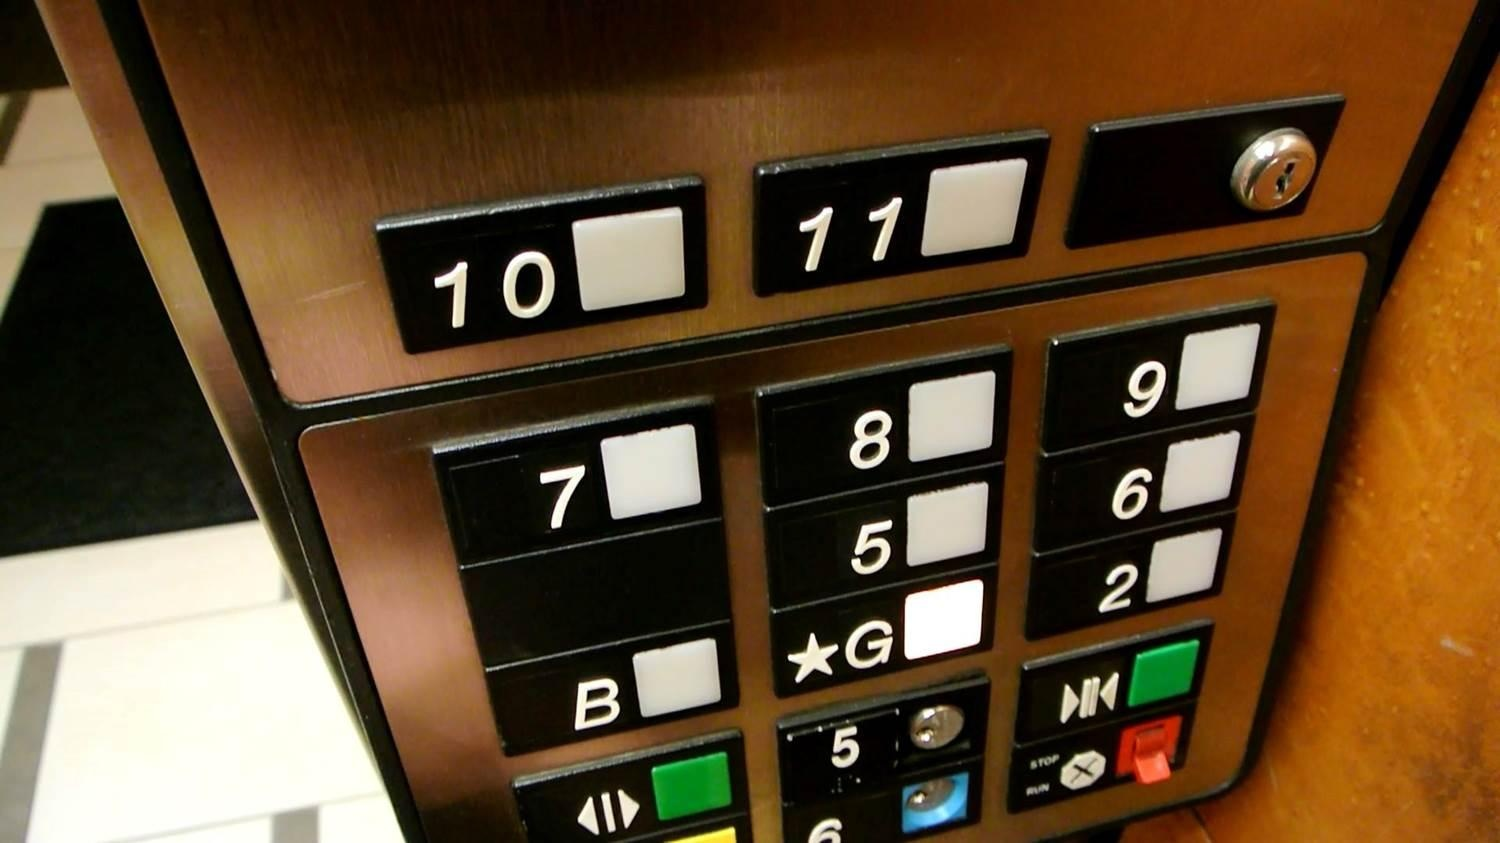10: (372, 173, 711, 367)
11: (745, 123, 1057, 300)
2: (1019, 503, 1242, 640)
5: (759, 453, 1010, 612), (772, 673, 995, 808)
6: (1030, 403, 1259, 554)
7: (428, 392, 728, 568)
8: (752, 341, 1016, 508)
9: (1038, 296, 1279, 454)
B: (483, 615, 741, 758)
bt_keyhole: (1062, 89, 1344, 251)
close: (1011, 615, 1220, 747)
open: (509, 724, 751, 843)
sG: (766, 560, 1009, 700)
stop: (1007, 706, 1203, 823)
